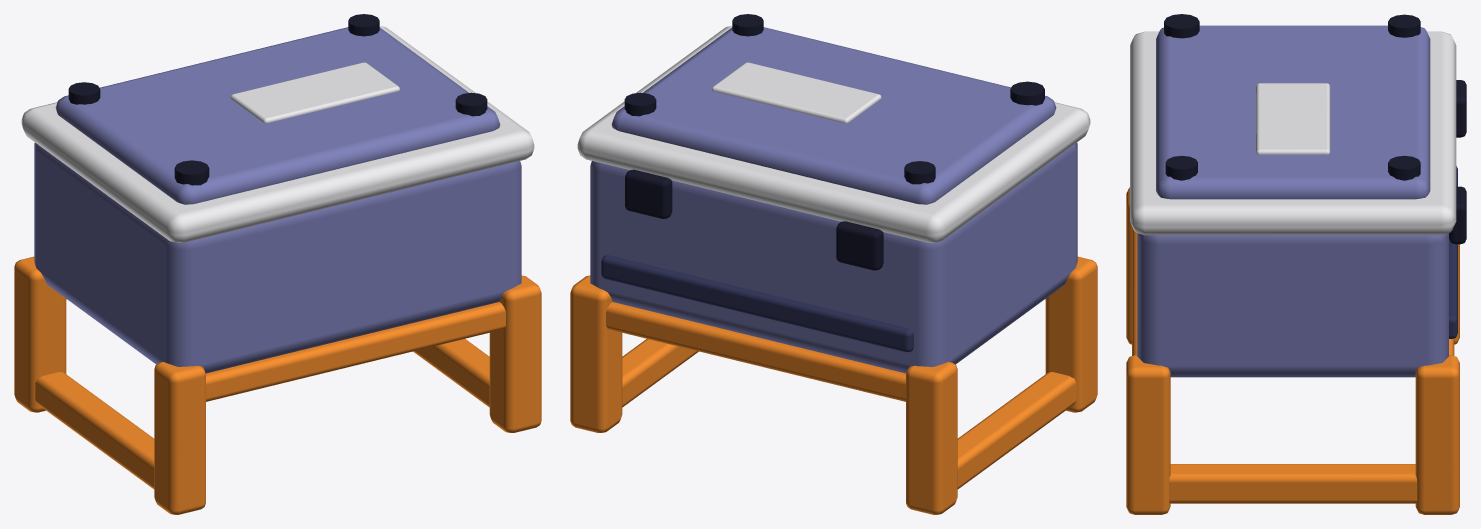
The model's file is prop.props_workrooms.parts_chest.glb.
The picture shows the model from 3 angles, left to right: view 1: azimuth 30°, elevation 25°; view 2: azimuth 150°, elevation 25°; view 3: azimuth 270°, elevation 25°; orthographic projection. The views are drawn at different scales.
Parts seen in each view (by area): view 1: prop.props_workrooms.parts_chest; view 2: prop.props_workrooms.parts_chest; view 3: prop.props_workrooms.parts_chest.
Part boxes in pixels (bbox=[...]): prop.props_workrooms.parts_chest: bbox=[14, 14, 541, 514]; prop.props_workrooms.parts_chest: bbox=[570, 14, 1097, 514]; prop.props_workrooms.parts_chest: bbox=[1126, 14, 1466, 514].
Size of the model in its own units: 0.6 by 0.494 by 0.459.
